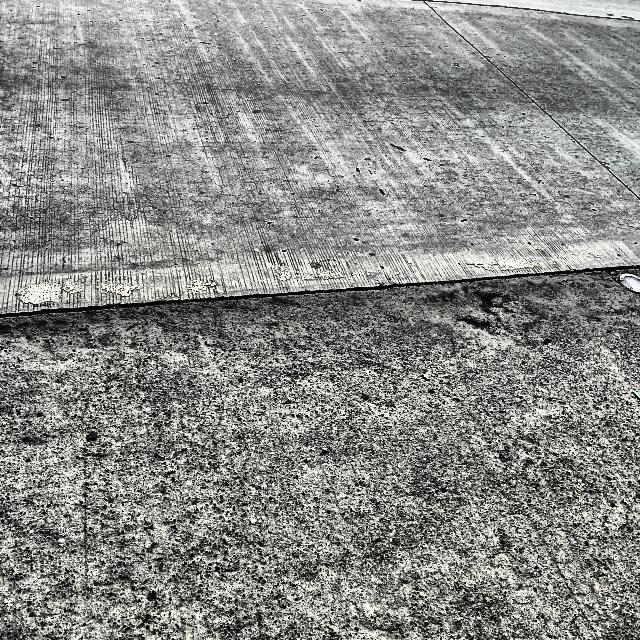major_scaling: (0, 272, 640, 640)
no_or_faded_road_markings: (0, 232, 640, 311)
